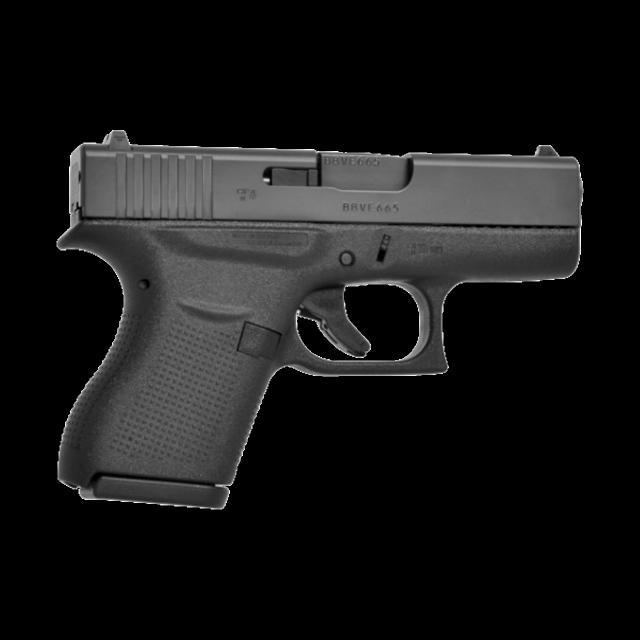pistol: (46, 118, 573, 520)
